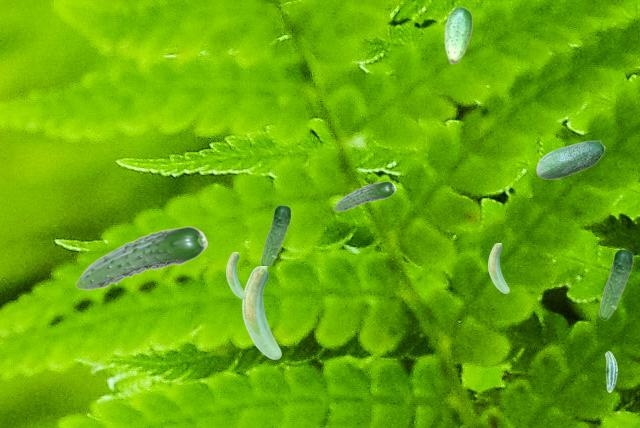cucumber: (75, 226, 207, 289), (242, 266, 280, 358), (536, 140, 604, 178), (598, 249, 632, 319), (260, 205, 290, 267), (333, 181, 395, 210), (444, 6, 471, 63), (488, 243, 508, 292), (226, 252, 244, 297), (605, 351, 616, 391)
